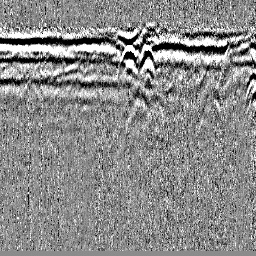cavity: (118, 42, 140, 71)
